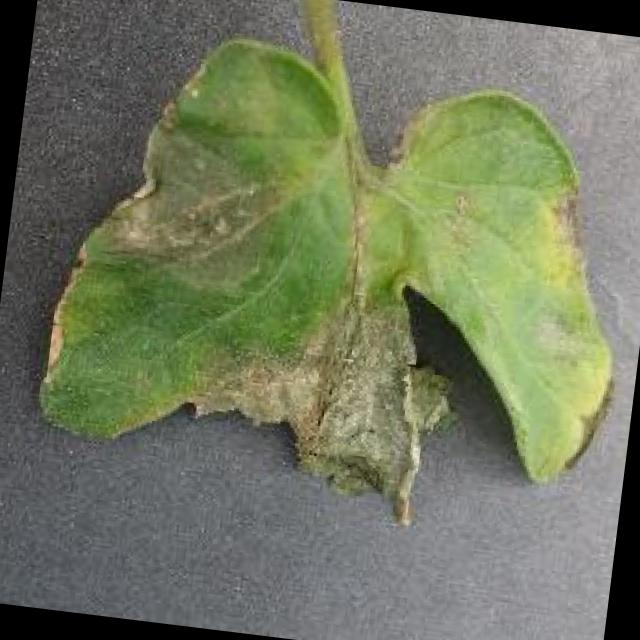Tomato_Late_Blight: (16, 111, 487, 546)
